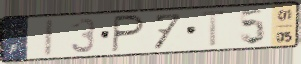3: (68, 17, 96, 56)
5: (237, 7, 268, 46)
7: (153, 12, 183, 51)
I: (41, 16, 57, 59)
P: (110, 13, 147, 54)
T: (198, 8, 232, 49)
